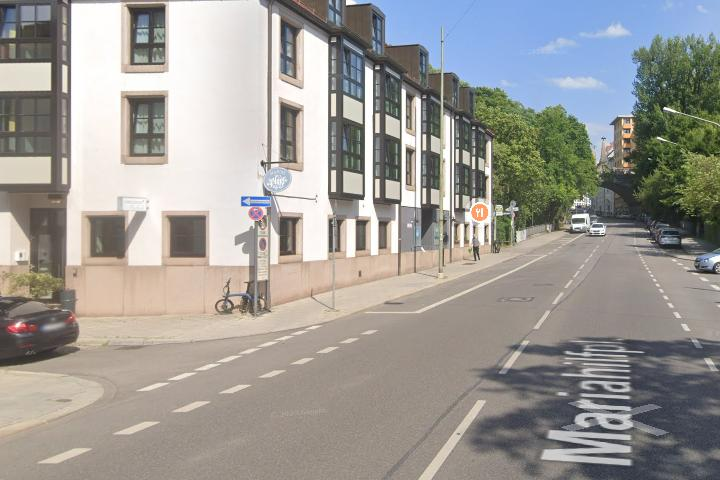google_maps: (471, 203, 488, 221)
traffic_sign: (248, 206, 264, 221)
vehicle: (1, 291, 80, 373), (654, 225, 682, 249), (570, 213, 591, 234), (586, 221, 607, 239), (582, 213, 601, 230)
